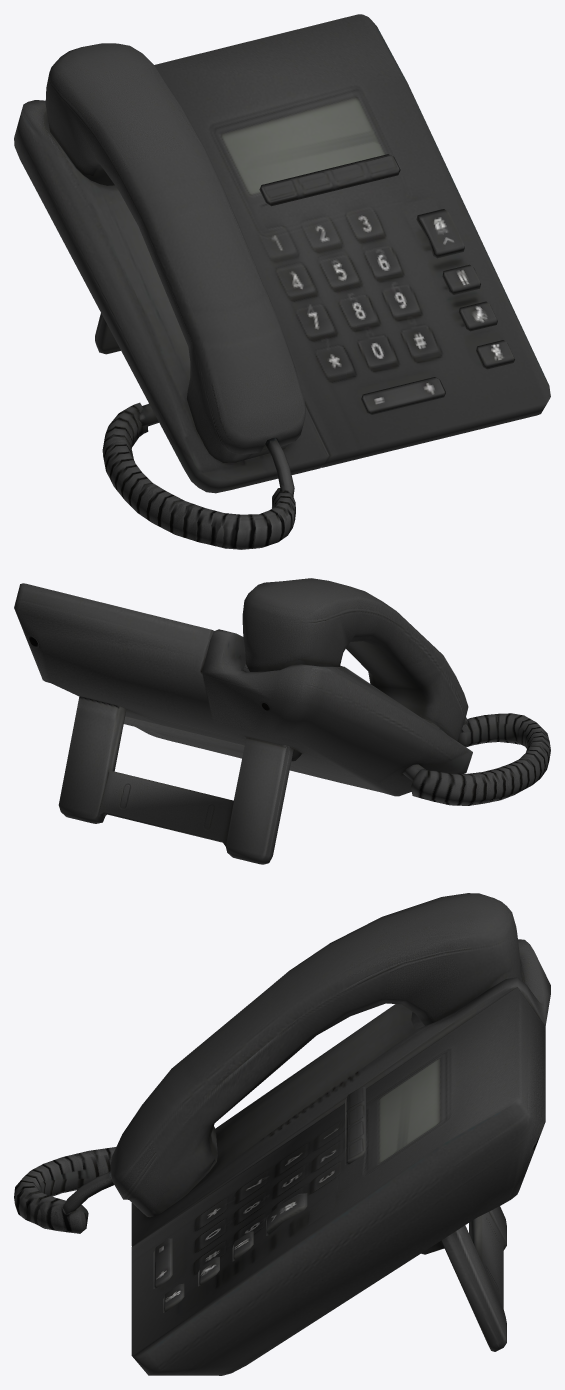
File: ENV_phone_v001.fbx
3 renders of one model, top to bottom at view 1: azimuth 30°, elevation 25°; view 2: azimuth 150°, elevation 25°; view 3: azimuth 270°, elevation 25°, orthographic. The views are drawn at different scales.
Parts seen in each view (by area): view 1: tripo_node_5c888fae-ff1e-47f3-a52e-f6b956422882; view 2: tripo_node_5c888fae-ff1e-47f3-a52e-f6b956422882; view 3: tripo_node_5c888fae-ff1e-47f3-a52e-f6b956422882.
Boxes of the visible parts, x1,y1,x2,y2 form: tripo_node_5c888fae-ff1e-47f3-a52e-f6b956422882: (14, 14, 550, 549); tripo_node_5c888fae-ff1e-47f3-a52e-f6b956422882: (14, 578, 550, 864); tripo_node_5c888fae-ff1e-47f3-a52e-f6b956422882: (14, 893, 550, 1375).
Size of the model in its own units: 92.38 by 69.73 by 99.8.
Materials: 1 (1 with a texture image).
